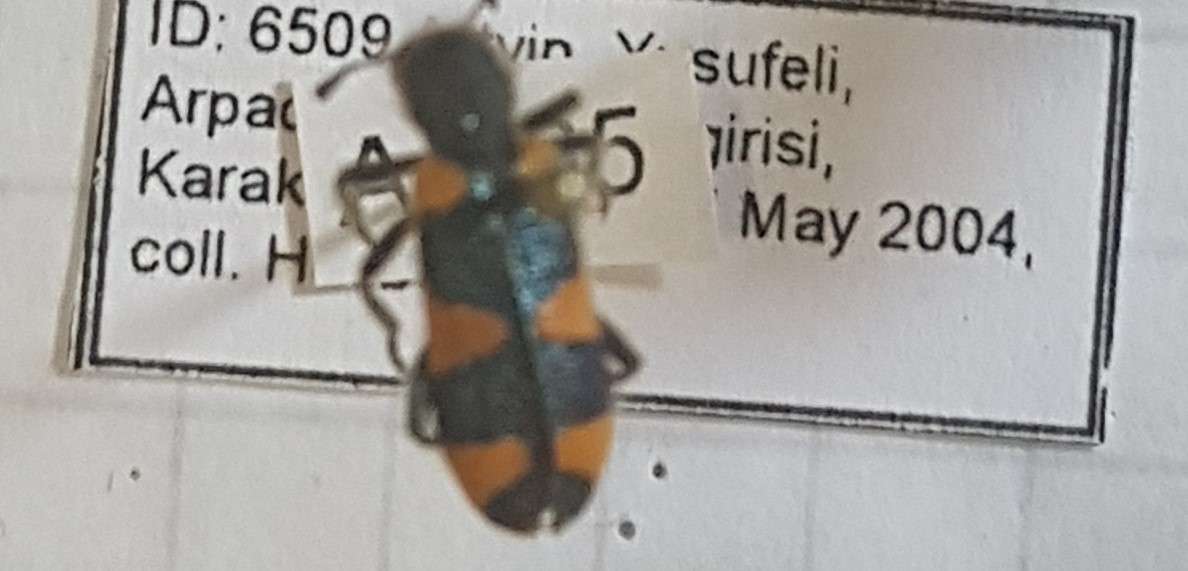trichodes_holtzi: (342, 17, 656, 540)
